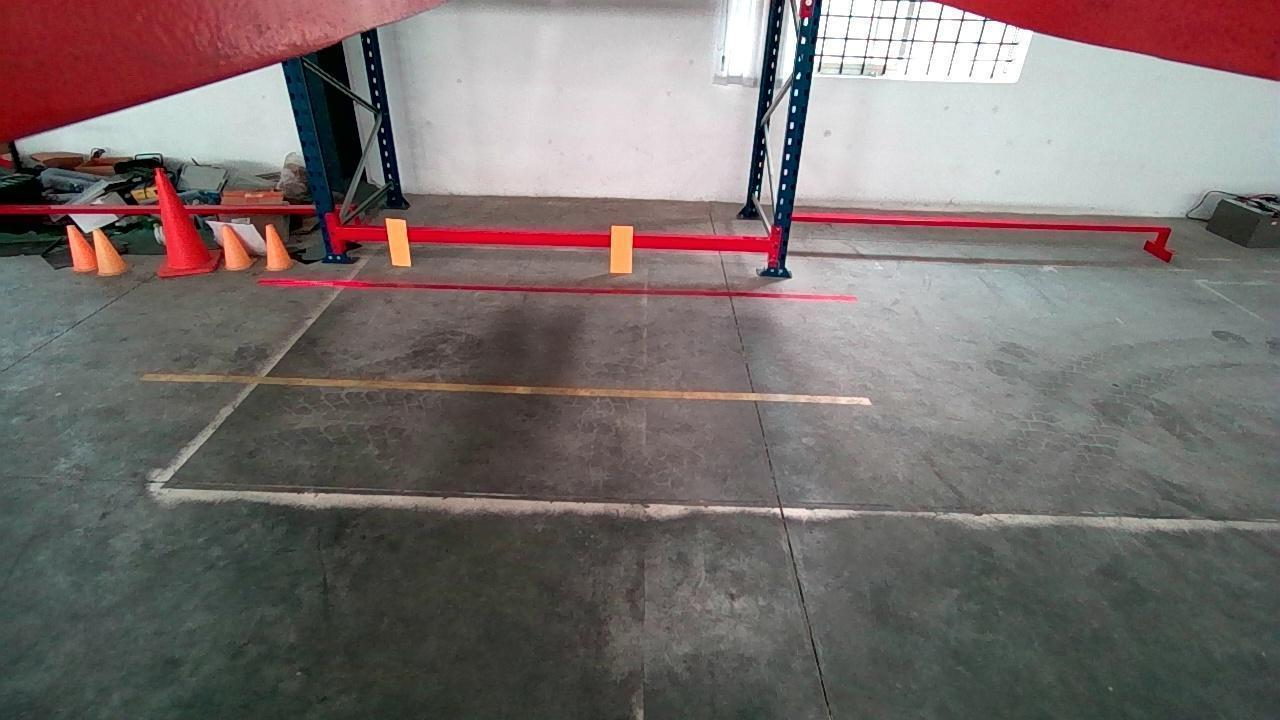red_line: (258, 278, 857, 301)
yellow_line: (140, 372, 874, 402)
